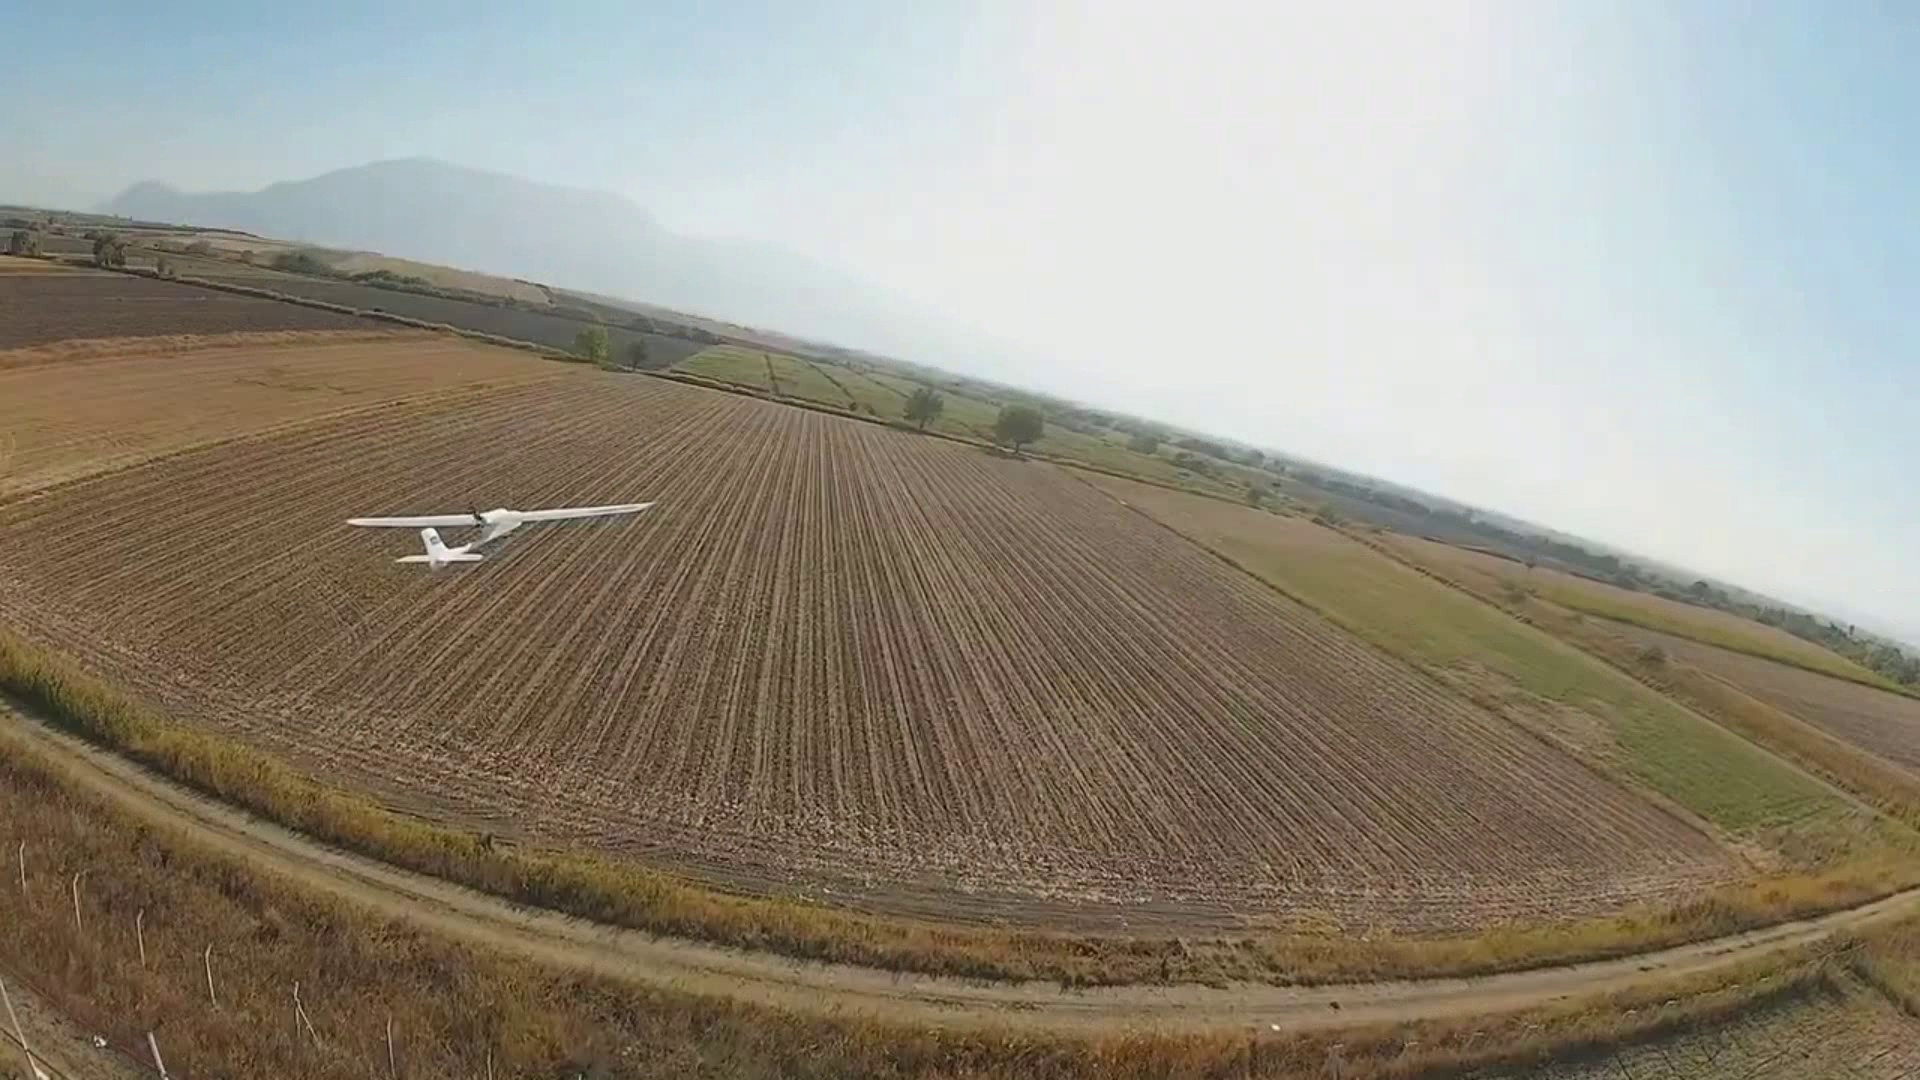airplane: (343, 502, 652, 569)
